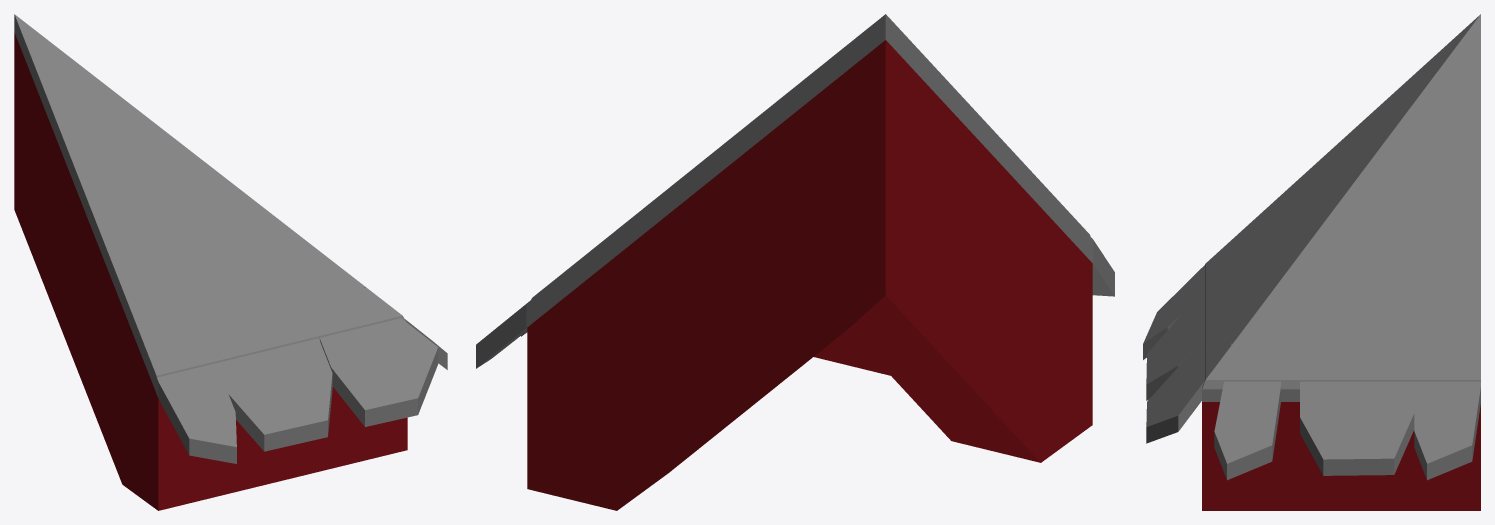
File: SM_MH_01_Slate_Roof_End_Corner_01.fbx
3 views of the same model, side by side, from view 1: azimuth 30°, elevation 25°; view 2: azimuth 150°, elevation 25°; view 3: azimuth 270°, elevation 25° (orthographic). The views are drawn at different scales.
Visible parts, largest first — view 1: SM_MH_01_Slate_Roof_End_Corner_01_LOD0; view 2: SM_MH_01_Slate_Roof_End_Corner_01_LOD0; view 3: SM_MH_01_Slate_Roof_End_Corner_01_LOD0.
Part boxes in pixels (x1,y1,x2,y2): SM_MH_01_Slate_Roof_End_Corner_01_LOD0: (14,14,447,510); SM_MH_01_Slate_Roof_End_Corner_01_LOD0: (476,14,1114,510); SM_MH_01_Slate_Roof_End_Corner_01_LOD0: (1143,14,1480,510).
Size of what is drawn, in the model's own units: 48.47 by 60 by 48.47.
